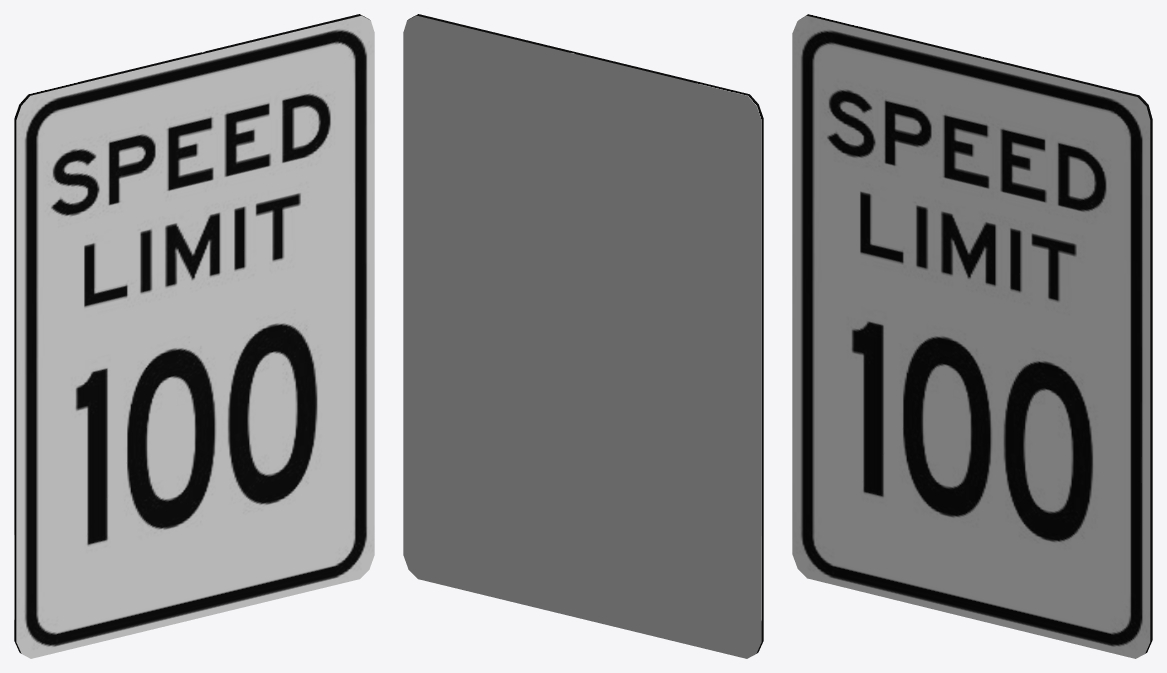
The model's file is 100Slsign.fbx.
The picture shows the model from 3 angles, left to right: view 1: azimuth 30°, elevation 25°; view 2: azimuth 150°, elevation 25°; view 3: azimuth 330°, elevation 25°; orthographic projection.
Visible parts, largest first — view 1: Sign_LOD0; view 2: Sign_LOD0; view 3: Sign_LOD0.
Part boxes in pixels (x1=…): Sign_LOD0: x1=14, y1=14, x2=374, y2=658; Sign_LOD0: x1=403, y1=14, x2=763, y2=658; Sign_LOD0: x1=792, y1=14, x2=1152, y2=658.
Size of what is drawn, in the model's own units: 633 by 951 by 6.52.
